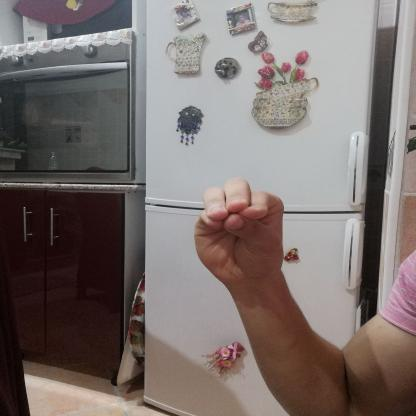HA: (181, 170, 297, 294)
